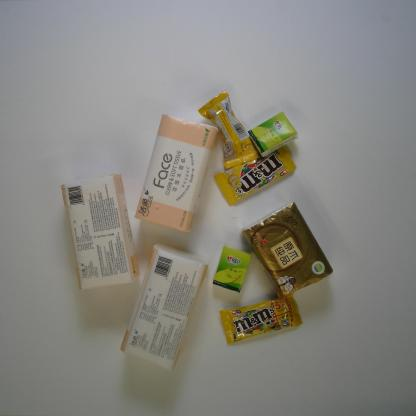Chocolate: (214, 144, 298, 206), (197, 90, 260, 171), (219, 292, 303, 346)
Tissue: (118, 243, 209, 371), (135, 112, 220, 235), (59, 172, 139, 290), (242, 202, 334, 300), (246, 109, 299, 158), (212, 244, 251, 295)
